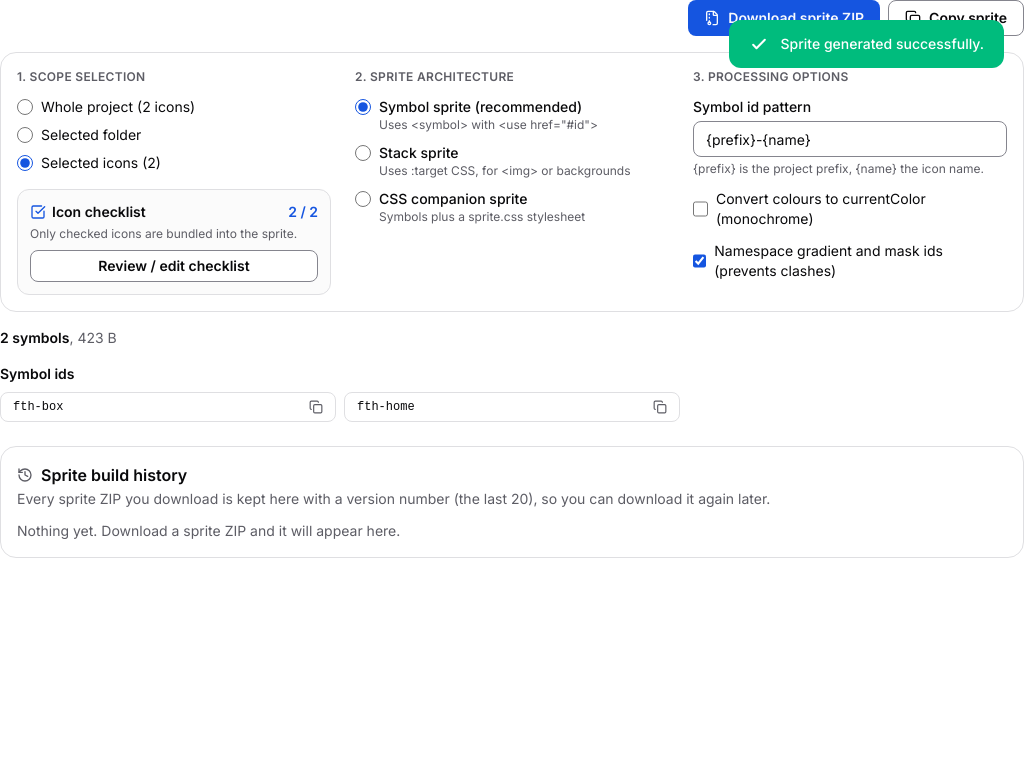
Test: chosen icons › opens the checklist from Review / edit checklist with the chosen icons ticked, and builds with the confirmed choice
Expected: the text "2 symbols" is shown, [0,329,69,346]
Click the button "Review / edit checklist": click(174, 266) [30,250,318,282]
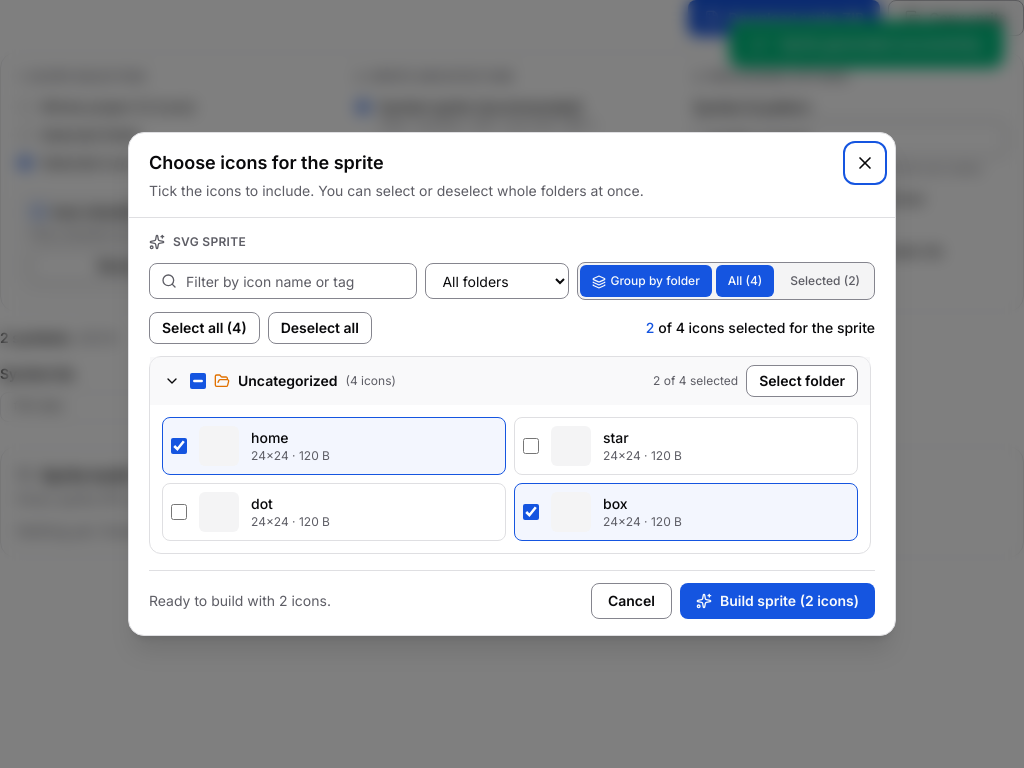
Now the text "2 of 4 icons selected for the sprite" is shown, box [646,318,875,338]
Now the checkbox labelled "home 24×24 · 120 B" is checked, box [171,438,187,454]
Now the checkbox labelled "star 24×24 · 120 B" is not checked, box [523,438,539,454]
Click the checkbox labelled "dot 24×24 · 120 B": click(179, 512) [171,504,187,520]
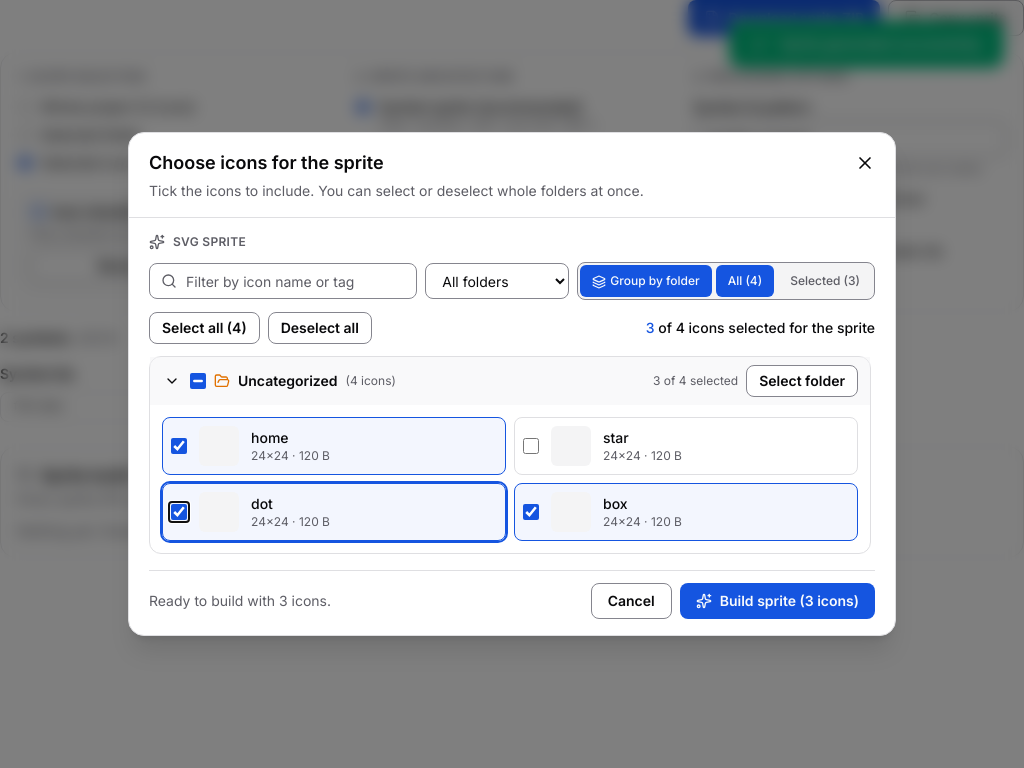
Click the button "Build sprite (3 icons)": click(777, 601) [680,583,875,619]
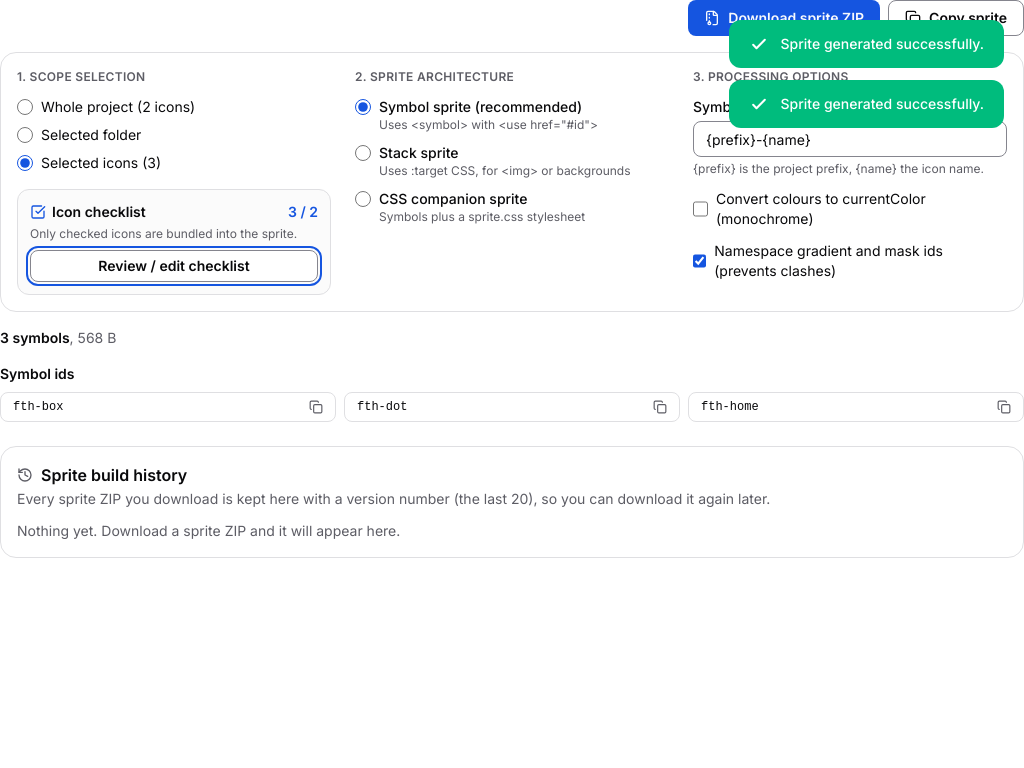
Expected: the radio button labelled "Selected icons (3)" is checked, [17,155,33,171]
Now the text "3 symbols" is shown, box [0,329,70,346]
